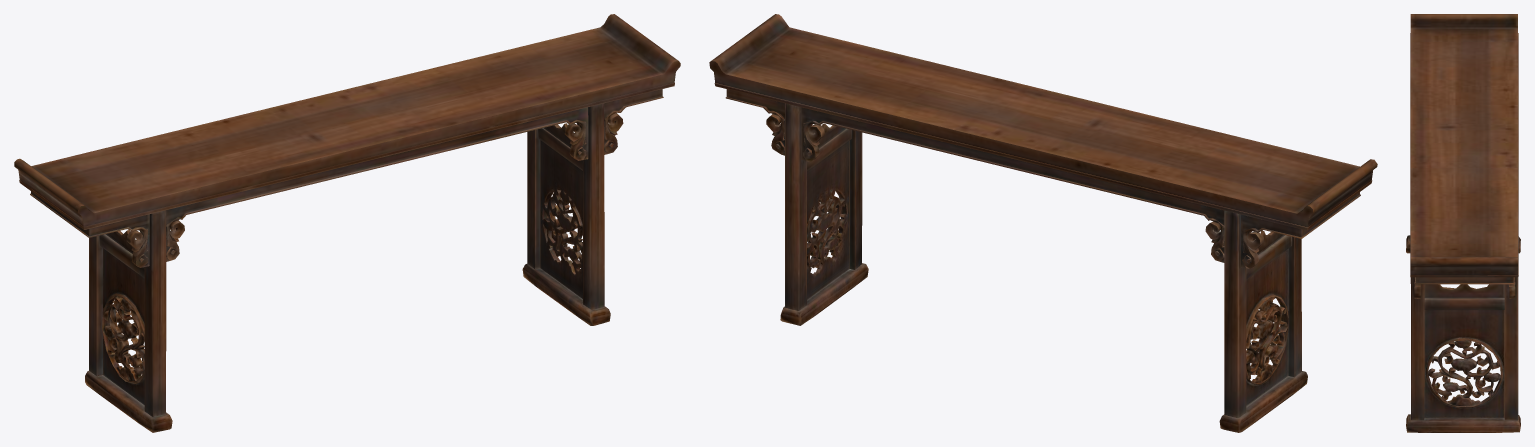
File: chinese_console_table.glb
The picture shows the model from 3 angles, left to right: view 1: azimuth 30°, elevation 25°; view 2: azimuth 150°, elevation 25°; view 3: azimuth 270°, elevation 25°; orthographic projection. The views are drawn at different scales.
Parts seen in each view (by area): view 1: chinese_console_table; view 2: chinese_console_table; view 3: chinese_console_table.
Part boxes in pixels (left/top/right/bottom): chinese_console_table: left=14, top=14, right=680, bottom=432; chinese_console_table: left=709, top=14, right=1377, bottom=432; chinese_console_table: left=1406, top=14, right=1520, bottom=432.
Size of the model in its own units: 1.72 by 0.6602 by 0.3383.
1 material, 1 textured.
